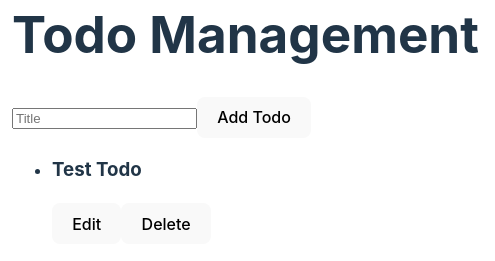
Test: FormPage Component › handles deleting a todo
The image size is (495, 261).
Click the button "Delete" at (166, 224), box [121,203,211,244]
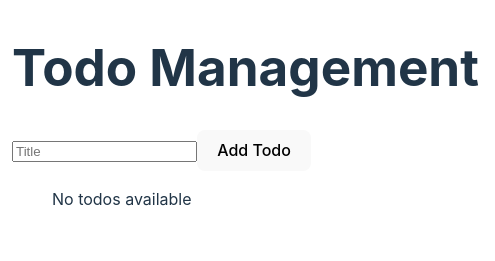
Now the text "No todos available" is shown, box [52,189,192,209]
